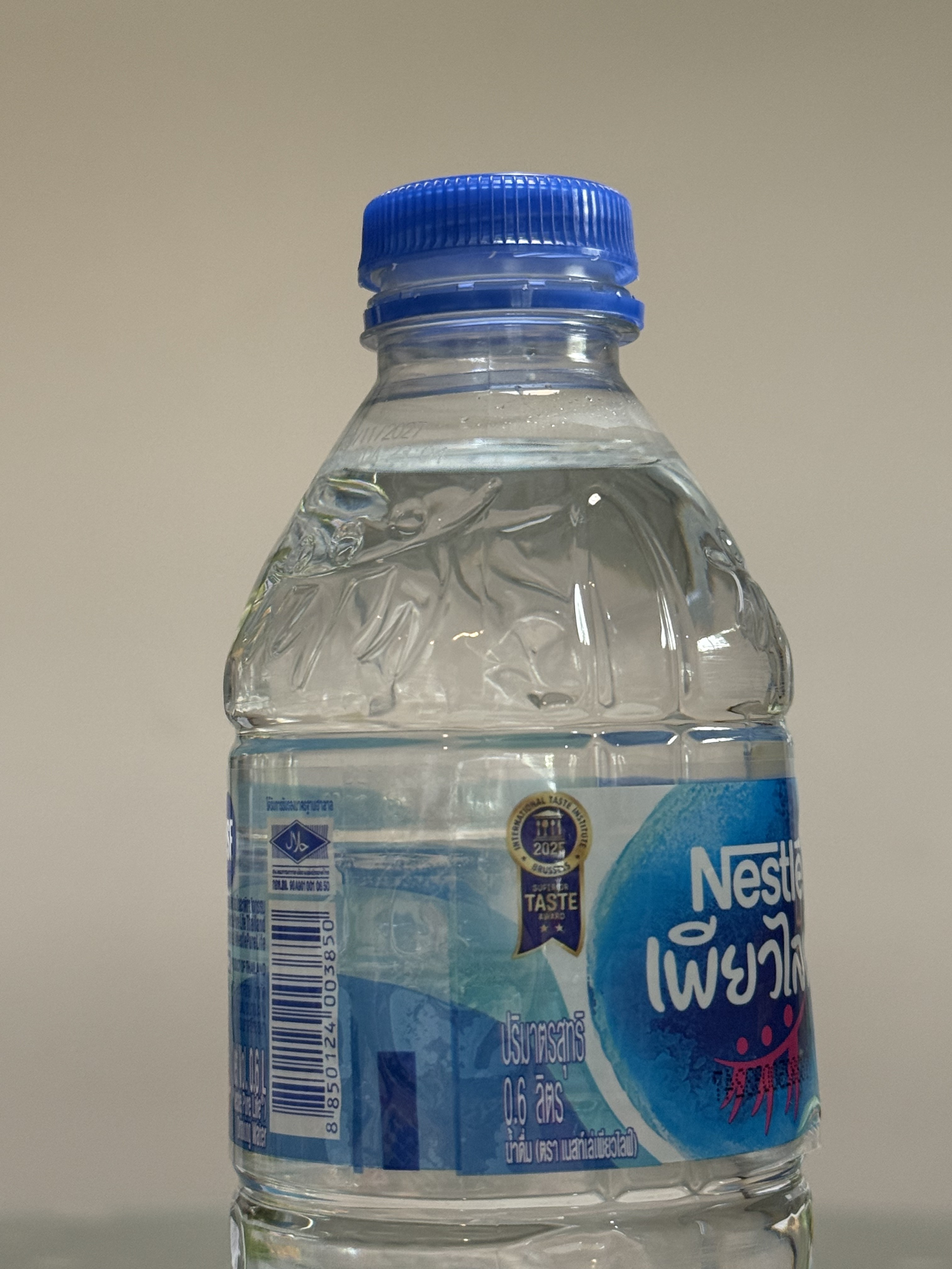half_cap: (354, 168, 641, 350)
